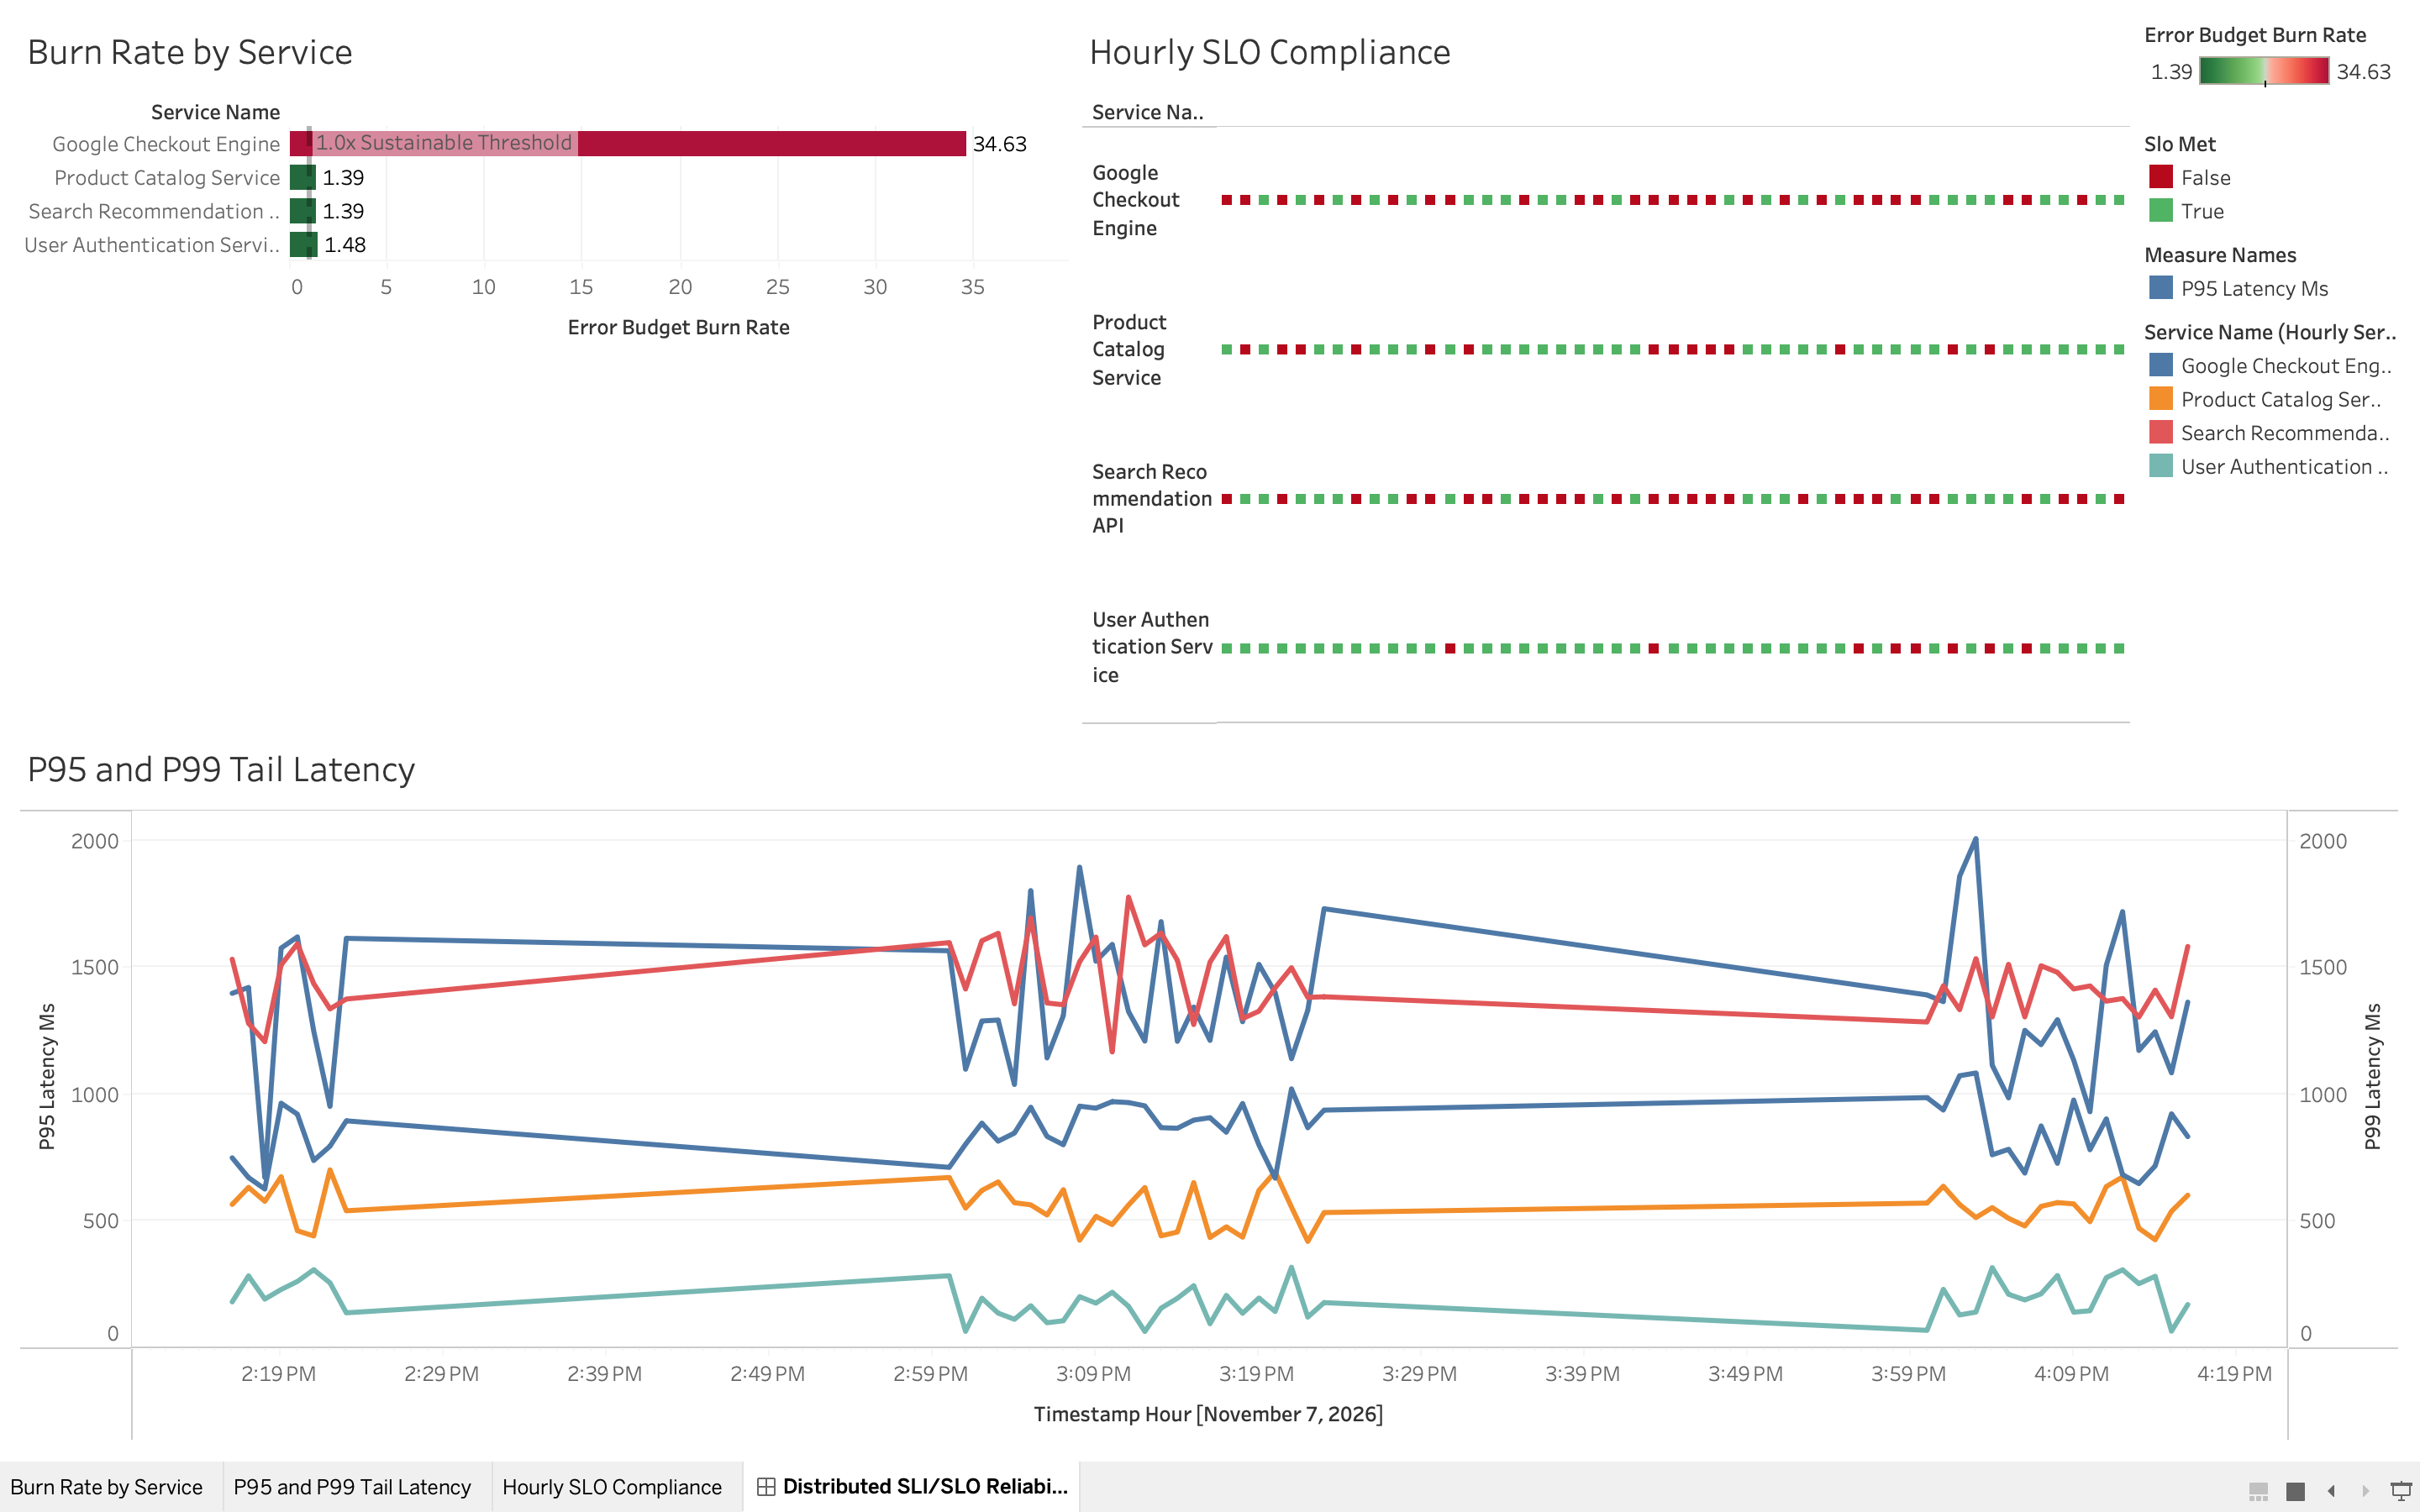

This screenshot's page, from the dashboard's own definition file:
{"tool":"tableau","page":{"name":"Distributed SLI/SLO Reliability & Error Budget Dashboard","canvas":[1000,1000],"units":"permille","ordinal":0},"visuals":[{"type":"worksheet","title":"Burn Rate by Service","mark":"Automatic","rows":["service_name"],"cols":["error_budget_burn_rate"],"box":[6.5,11.5,428.4,488.5]},{"type":"worksheet","title":"Hourly SLO Compliance","mark":"Square","rows":["service_name (hourly_service_rollups.csv)"],"cols":["timestamp_hour"],"box":[434.9,11.5,428.3,488.5]},{"type":"legend","title":"Burn Rate by Service","param":"[federated.023hscx16gioxo1g4yzcx1w153gg].[sum:error_budget_burn_rate:qk]","box":[863.2,11.5,130.3,93.1]},{"type":"legend","title":"Hourly SLO Compliance","param":"[federated.023hscx16gioxo1g4yzcx1w153gg].[none:slo_met:nk]","box":[863.2,104.6,130.3,94.5]},{"type":"legend","title":"P95 and P99 Tail Latency","param":"[federated.023hscx16gioxo1g4yzcx1w153gg].[:Measure Names]","box":[863.2,199.1,130.3,65.9]},{"type":"legend","title":"P95 and P99 Tail Latency","param":"[federated.023hscx16gioxo1g4yzcx1w153gg].[none:service_name (hourly_service_roll","box":[863.2,265,130.3,151.9]},{"type":"worksheet","title":"P95 and P99 Tail Latency","mark":"Automatic","rows":["p95_latency_ms","p99_latency_ms"],"cols":["timestamp_hour"],"box":[6.5,500,987,488.5]}]}

Visuals, with their boxes on the dashboard's canvas, which has no fixed pixel size, in thousandths of its width and height (x1, y1, x2, y2). These are canvas units, not pixel positions in the 2420x1512 screenshot, which may show the page scaled, cropped or inside an application window:
"Burn Rate by Service" worksheet: 6 12 435 500
"Hourly SLO Compliance" worksheet (Square marks): 435 12 863 500
"Burn Rate by Service" legend: 863 12 994 105
"Hourly SLO Compliance" legend: 863 105 994 199
"P95 and P99 Tail Latency" legend: 863 199 994 265
"P95 and P99 Tail Latency" legend: 863 265 994 417
"P95 and P99 Tail Latency" worksheet: 6 500 994 988
